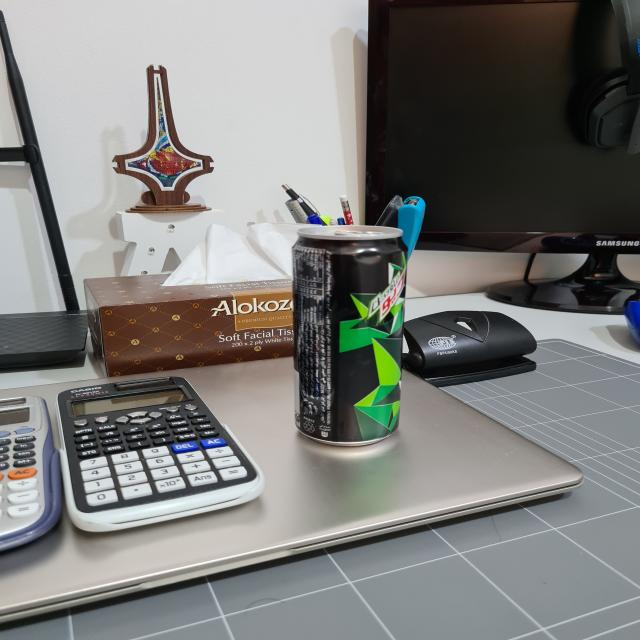non-organic waste: (286, 224, 408, 450)
